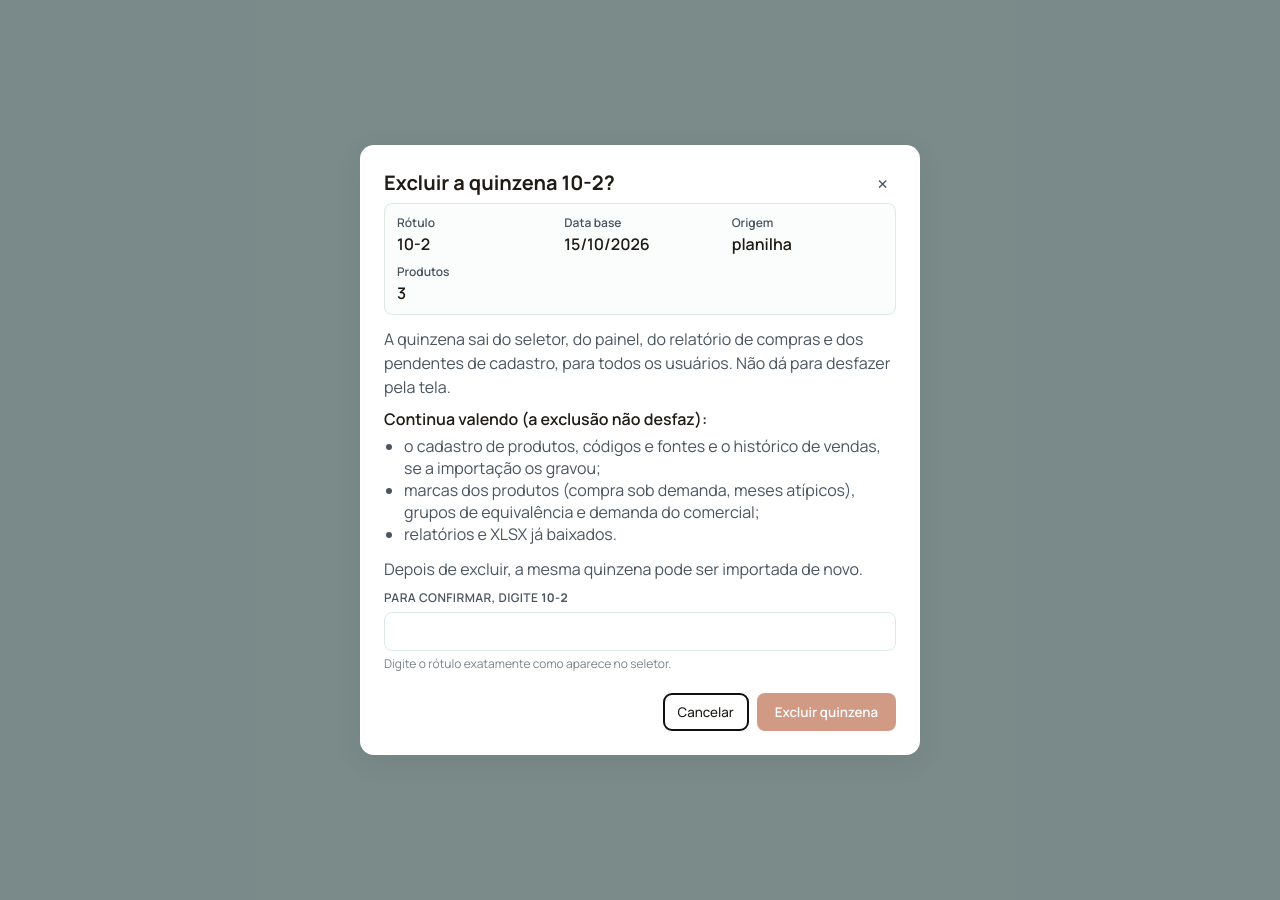
ForecastExcluirQuinzenaModal › erro 503: alerta com a mensagem, dialogo aberto e botao livre para tentar de novo
The width and height of the screenshot is (1280, 900).
Type "10-2" into the field labelled "Para confirmar, digite 10-2".
click(640, 632); type("10-2")  # box top-left (384, 612), bottom-right (896, 651)
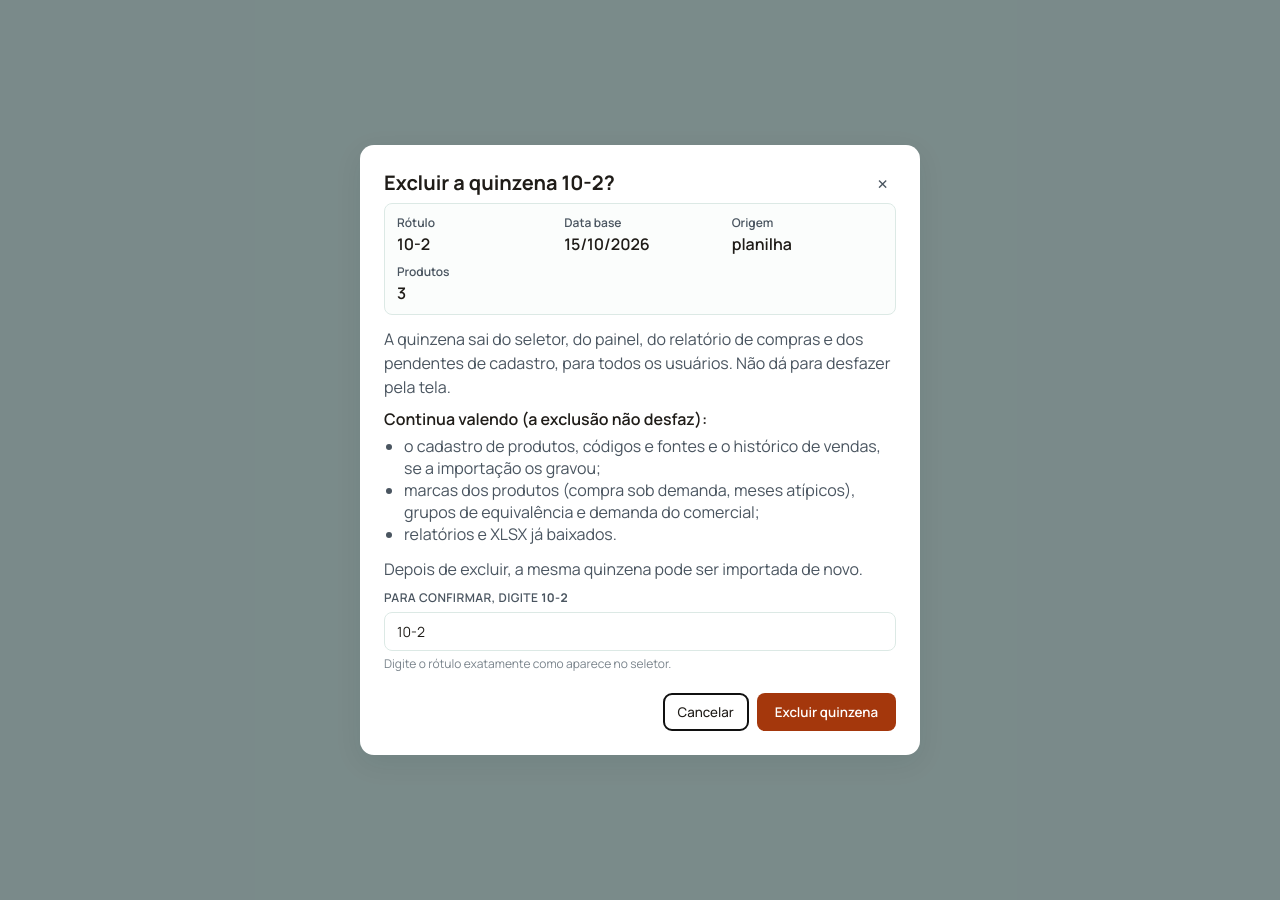
Click the button "Excluir quinzena".
click(826, 712)  # box top-left (757, 693), bottom-right (896, 731)
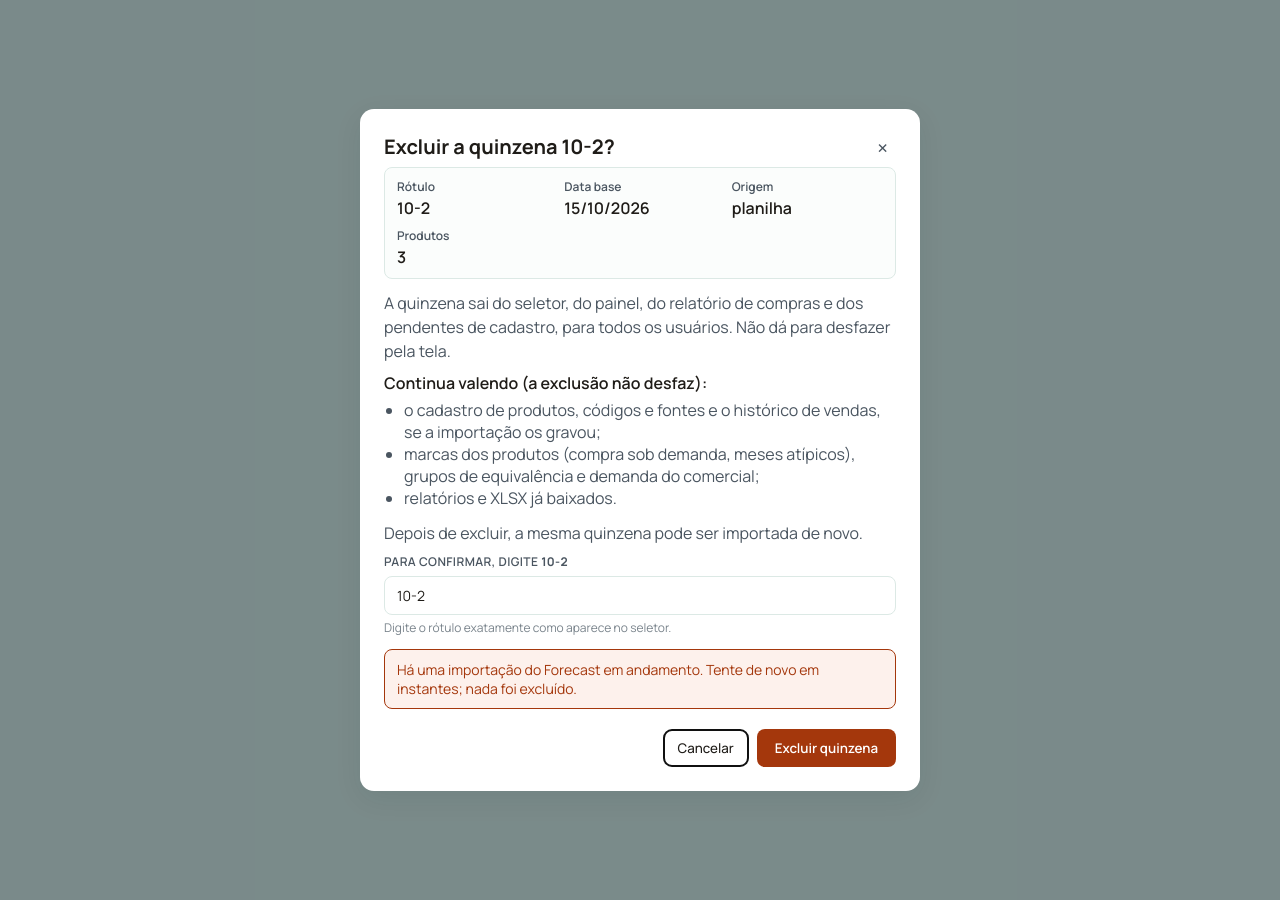
Expected: the button "Excluir quinzena" is enabled, top-left (757, 729), bottom-right (896, 767)
Expected: the message shows "Há uma importação do Forecast em andamento. Tente de novo em instantes; nada foi excluído.", top-left (397, 660), bottom-right (819, 698)
